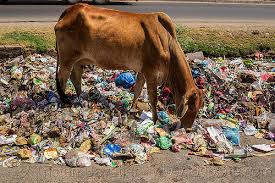garbage: (204, 56, 275, 158), (1, 57, 55, 161), (84, 73, 132, 167), (134, 126, 204, 160), (56, 105, 83, 168)
